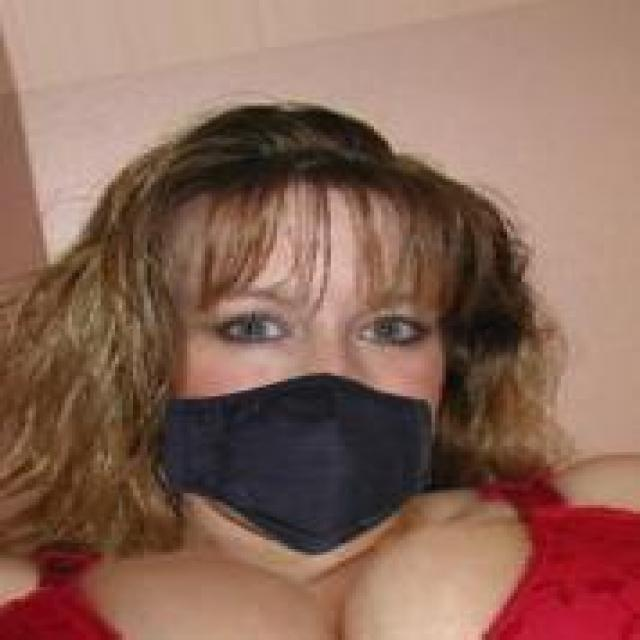mask: (126, 73, 518, 584)
